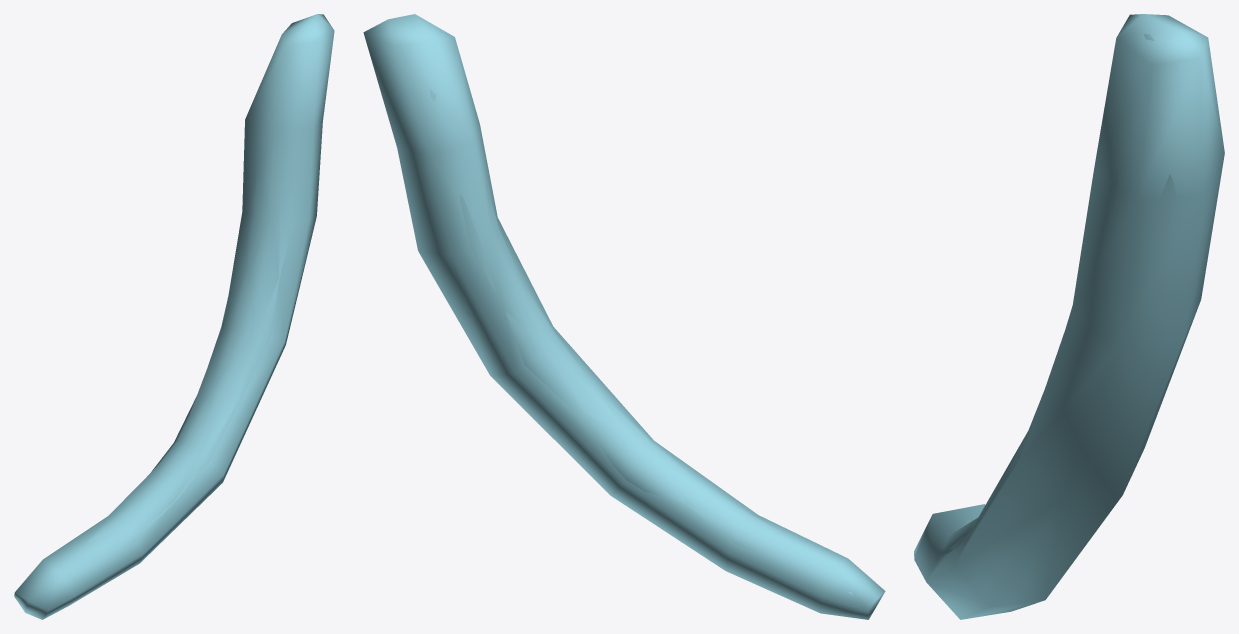
3 views of the same model, side by side, from view 1: azimuth 30°, elevation 25°; view 2: azimuth 150°, elevation 25°; view 3: azimuth 270°, elevation 25° (orthographic). The views are drawn at different scales.
Parts seen in each view (by area): view 1: CC L1 low, CC L1; view 2: CC L1 low, CC L1; view 3: CC L1 low, CC L1.
Boxes of the visible parts, box(x1,y1,x2,y2) form: CC L1 low: box(14, 14, 334, 619); CC L1: box(20, 25, 321, 611); CC L1 low: box(363, 14, 885, 619); CC L1: box(430, 89, 875, 605); CC L1 low: box(914, 14, 1224, 619); CC L1: box(934, 34, 1176, 558).
Bounding box in the file's own units: 1.03 × 1.26 × 0.4182.
